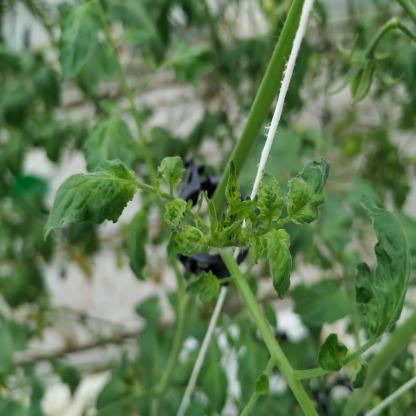T_L_H: (45, 159, 138, 237)
T_L_R: (355, 197, 412, 346)
